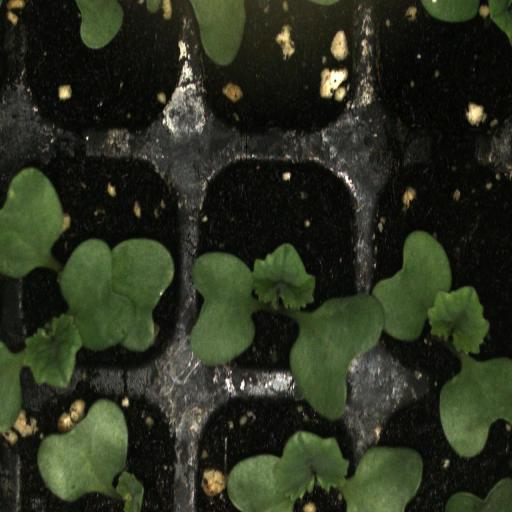seedling: (189, 142, 365, 387), (368, 142, 512, 386), (183, 385, 367, 512), (0, 385, 184, 512)
twoseedling: (11, 142, 183, 386)
